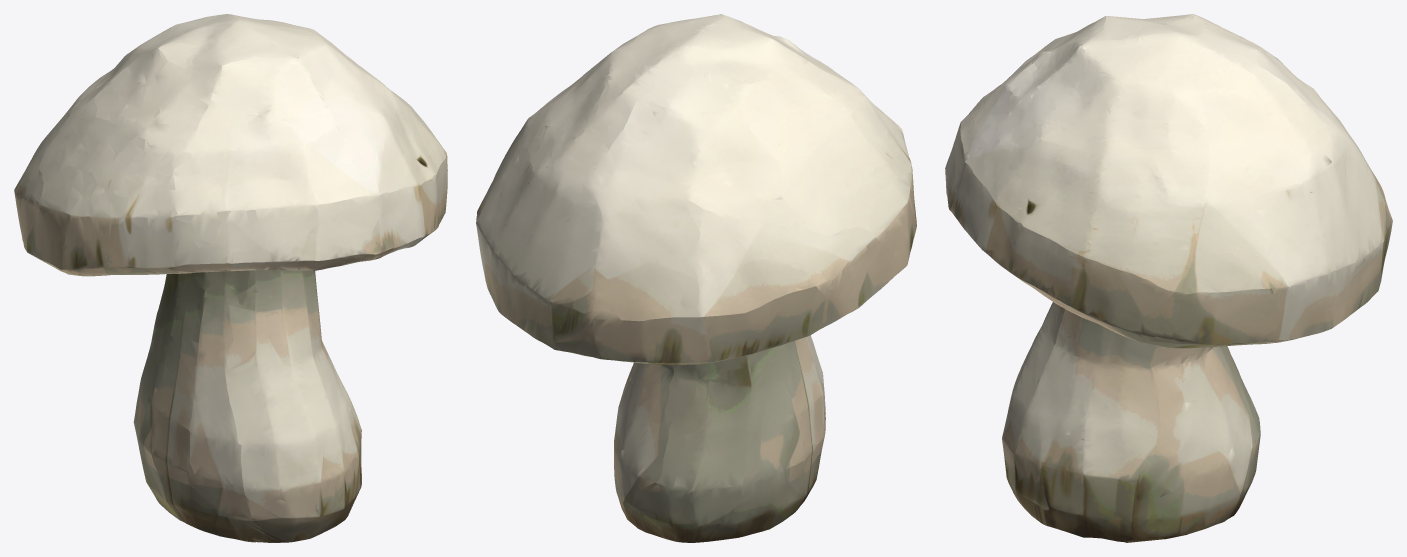
File: item_white_mushroom.glb
3 views of the same model, side by side, from view 1: azimuth 30°, elevation 25°; view 2: azimuth 150°, elevation 25°; view 3: azimuth 270°, elevation 25° (orthographic).
Visible parts, largest first — view 1: item_white_mushroom; view 2: item_white_mushroom; view 3: item_white_mushroom.
Part boxes in pixels (box(x1,y1,x2,y2)): item_white_mushroom: box(14, 14, 447, 542); item_white_mushroom: box(476, 14, 916, 542); item_white_mushroom: box(945, 14, 1392, 542).
Bounding box in the file's own units: 0.1026 × 0.12 × 0.1024.
Materials: 1 (1 with a texture image).
